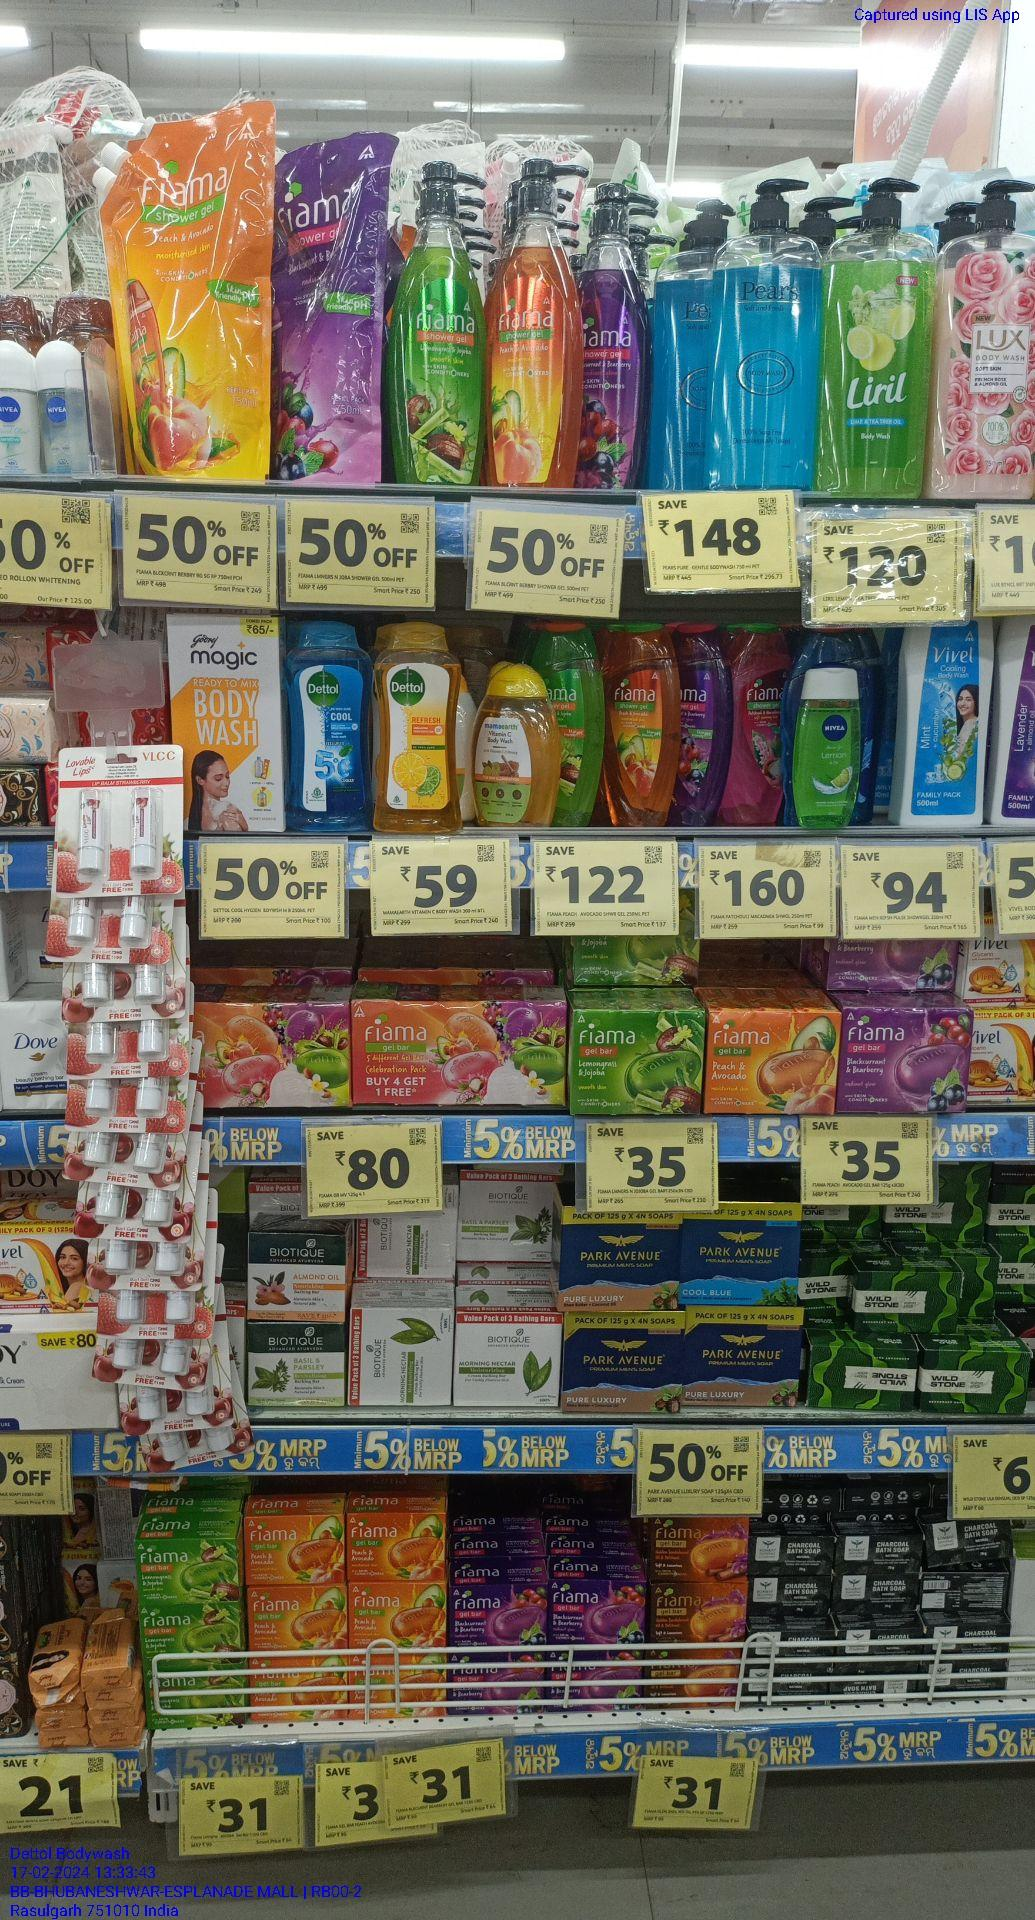Dettol_Bodywash_Cool: (288, 622, 370, 829)
Dettol_Bodywash_Refresh: (372, 619, 458, 829)
Fiama_Shower_Gel_Patchouli_and_Macadamia_250ML: (720, 624, 790, 832)
Fiama_Shower_Gel_Peach_and_Avocado_250ML: (603, 623, 676, 828)
